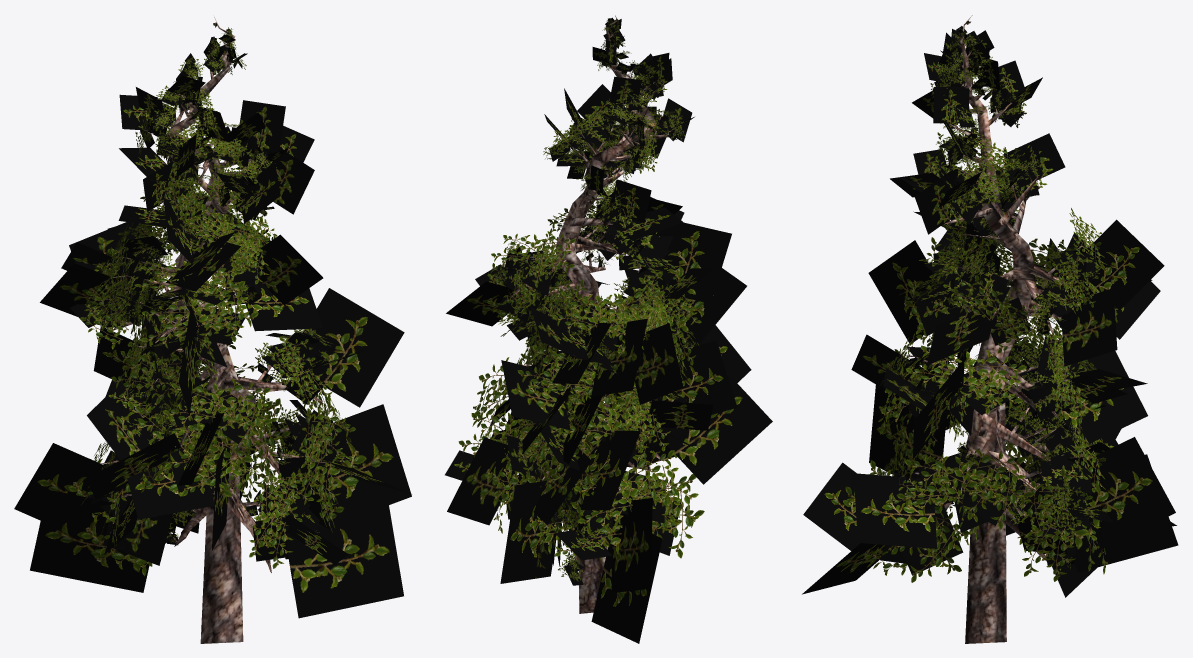
The model's file is TreeG1.fbx.
3 renders of one model, left to right at view 1: azimuth 30°, elevation 25°; view 2: azimuth 150°, elevation 25°; view 3: azimuth 270°, elevation 25°, orthographic. The views are drawn at different scales.
Visible parts, largest first — view 1: TreeG.001; view 2: TreeG.001; view 3: TreeG.001.
Boxes of the visible parts, x1,y1,x2,y2 form: TreeG.001: [14, 17, 411, 643]; TreeG.001: [445, 15, 772, 643]; TreeG.001: [802, 15, 1178, 643].
Bounding box in the file's own units: 542 × 1015 × 561.
